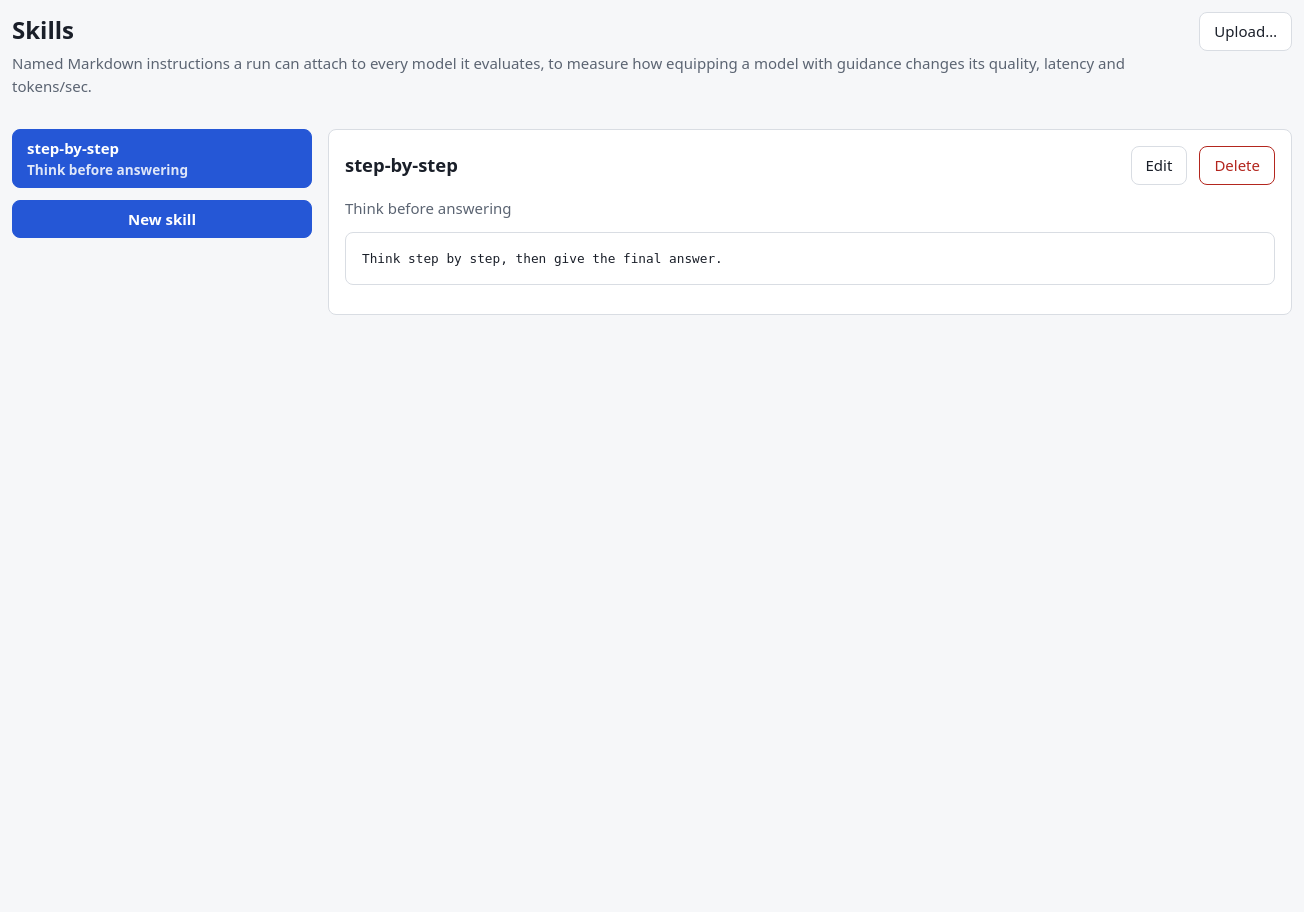
Test: skills page › shows a duplicate-name error from the server and creates nothing
The image size is (1304, 912).
Expected: the element named "Skill step-by-step" is shown, [328,129,1292,315]
Step 1. Click the button "New skill" → (162, 219), box [12,200,312,238]
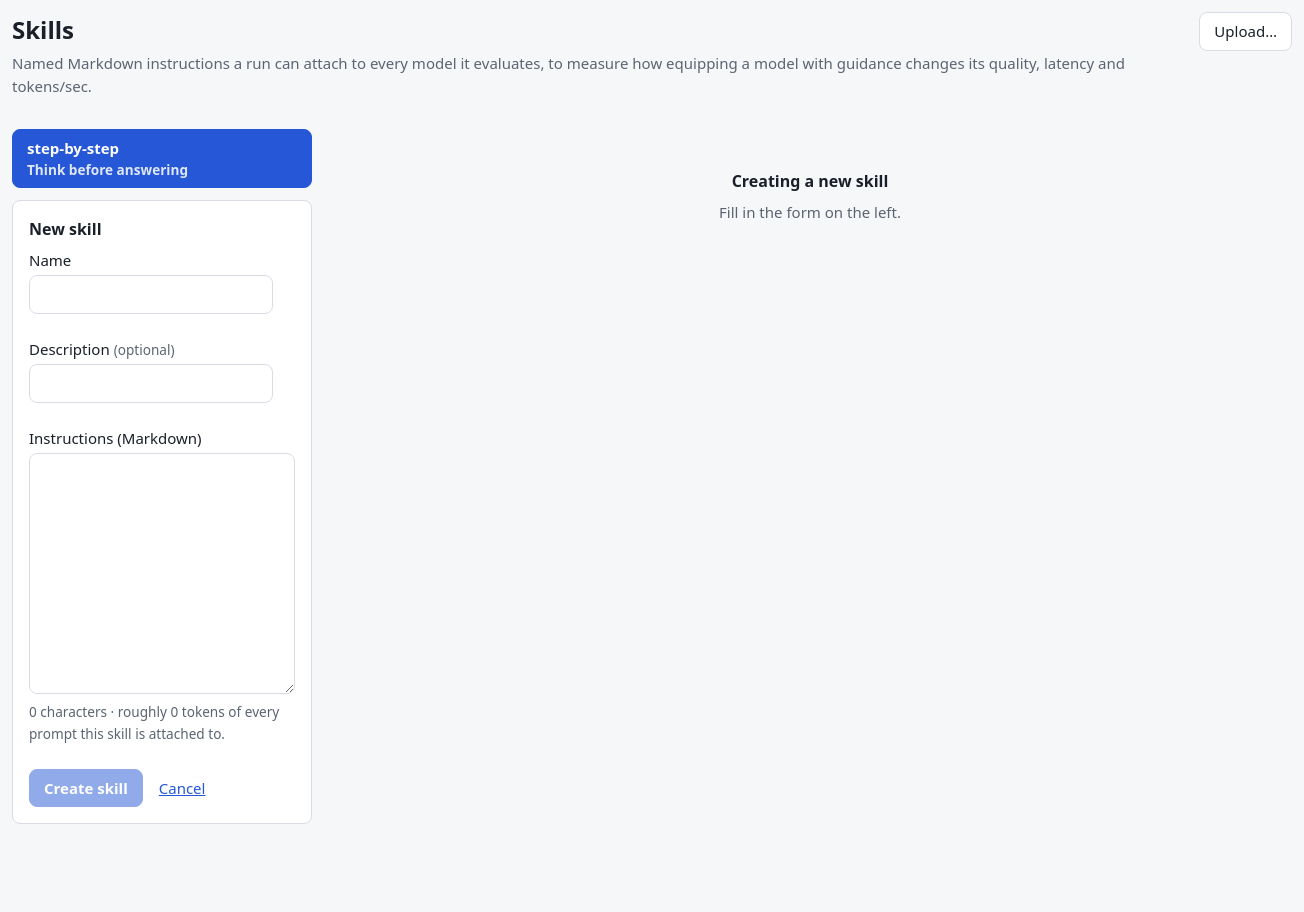
Step 2. Type "step-by-step" into the field labelled "Name" → (151, 295), box [29,275,273,314]
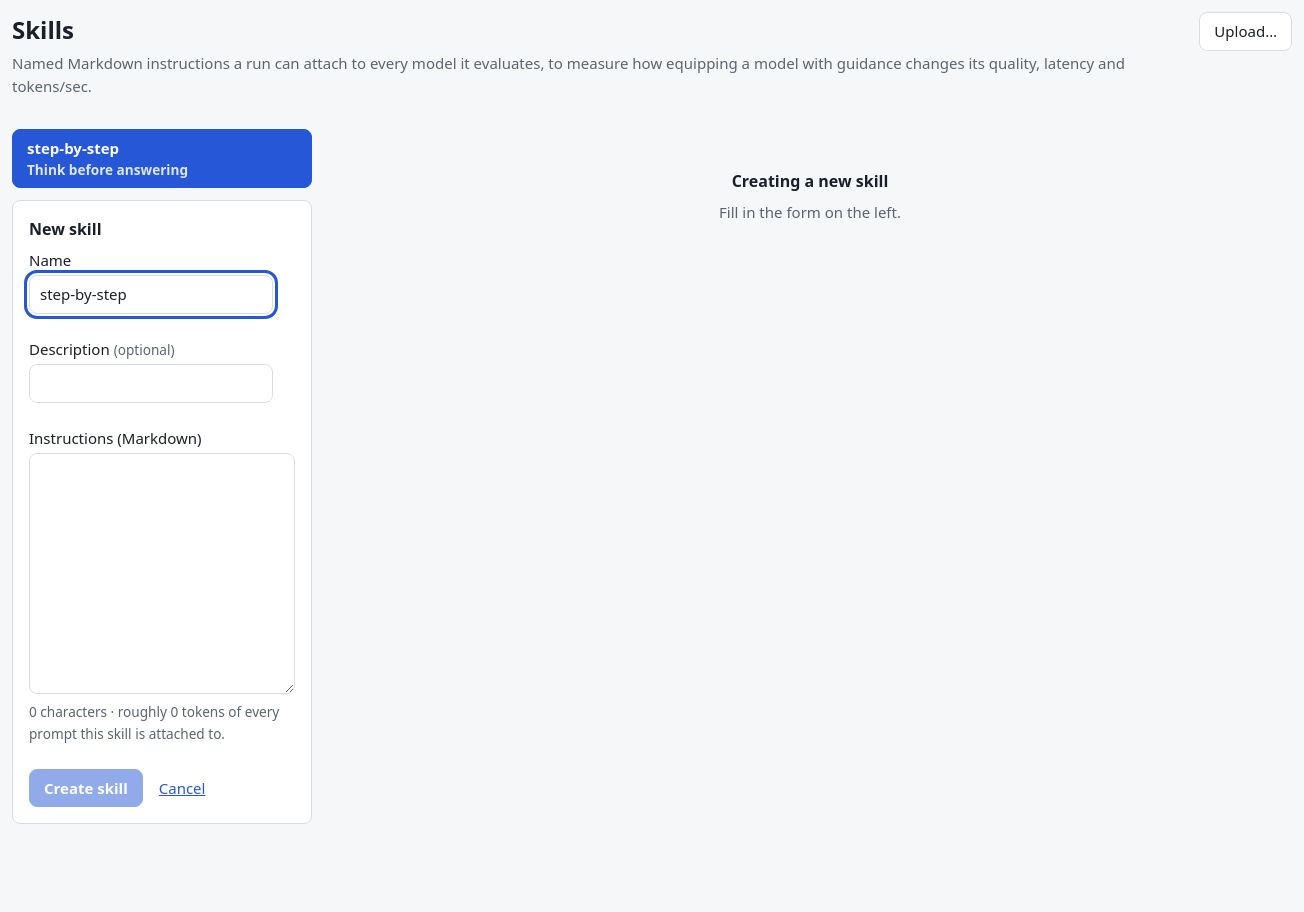
Step 3. Type "x" into the text box labelled "Instructions (Markdown)" → (162, 574), box [29,453,295,694]
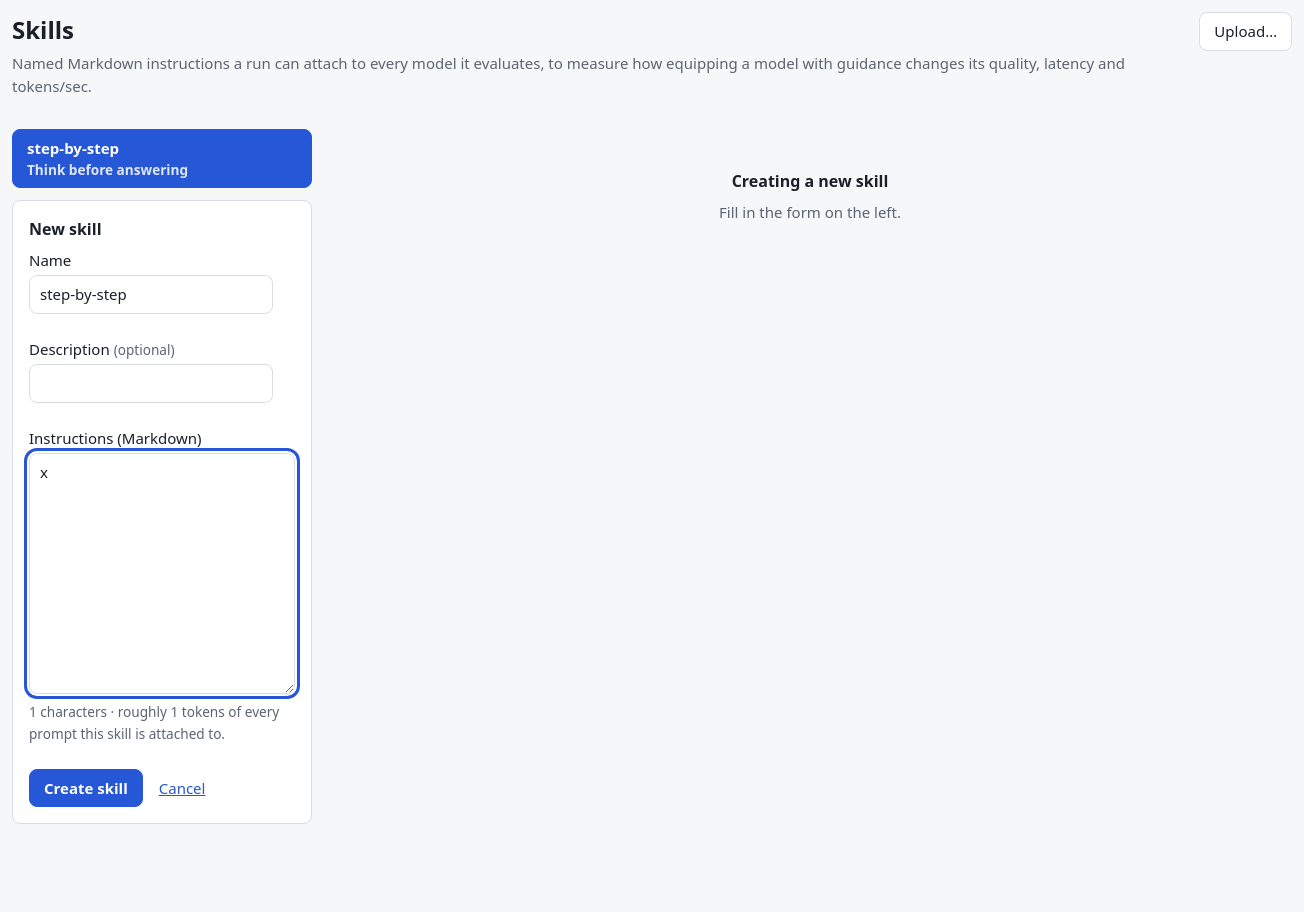
Step 4. Click the button "Create skill" → (86, 788), box [29,769,143,807]
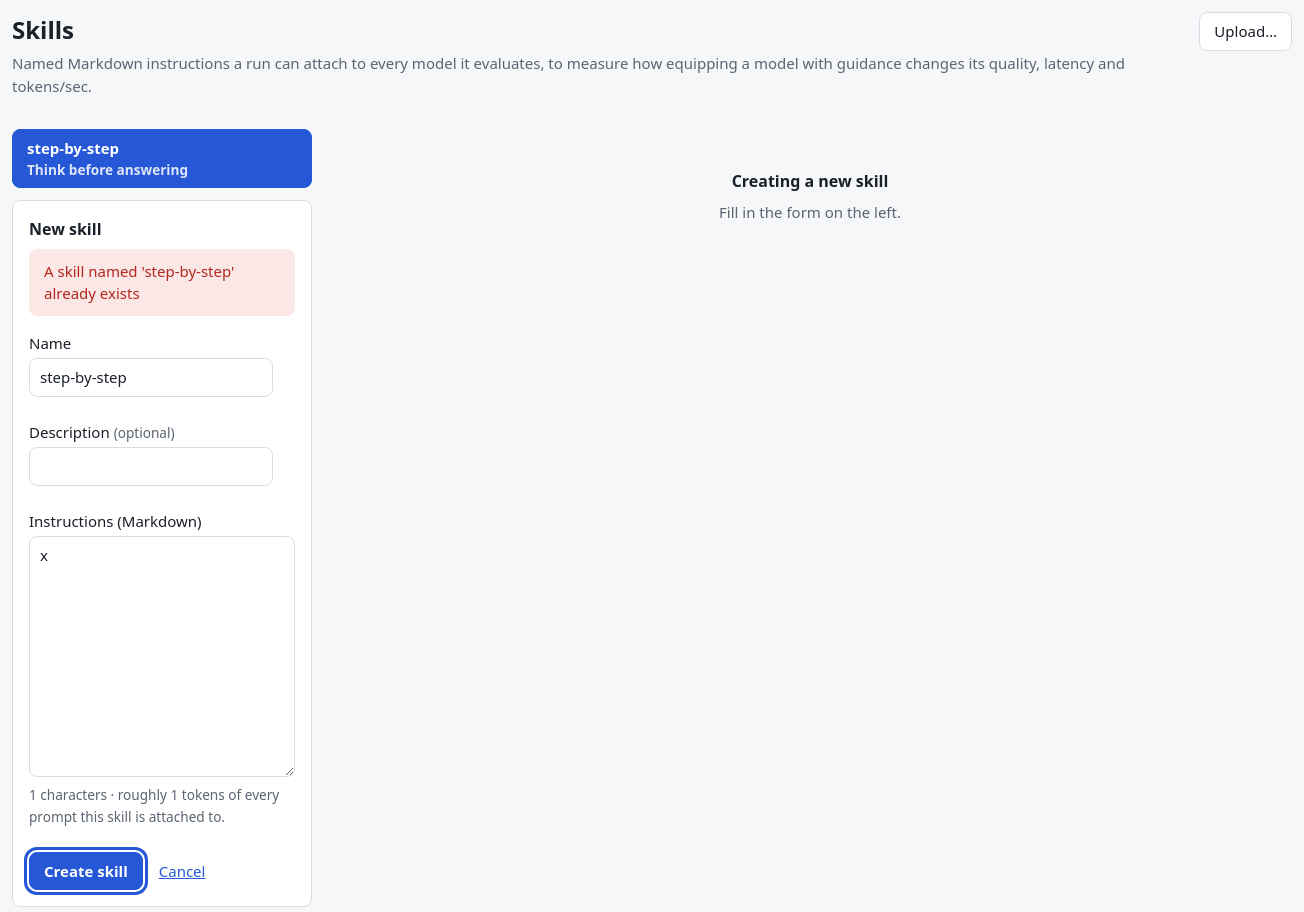
Expected: the text "A skill named 'step-by-step' already exists" is shown, [29,249,295,316]
